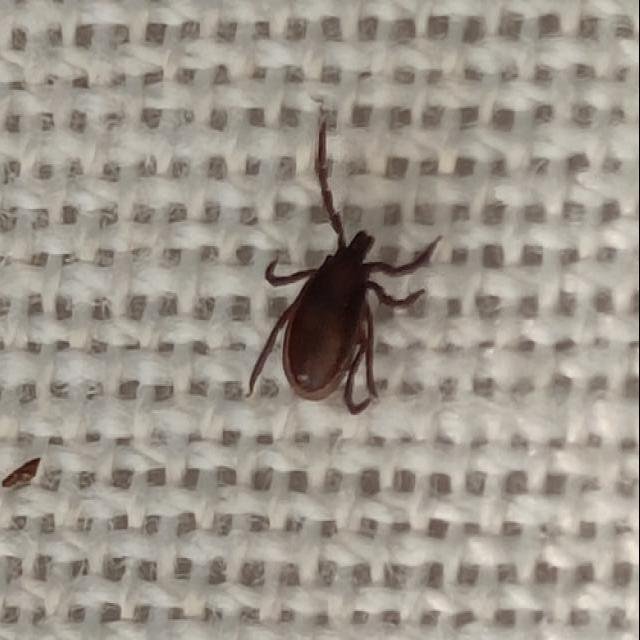Ixodes Ricinus-M: (251, 121, 442, 416)
